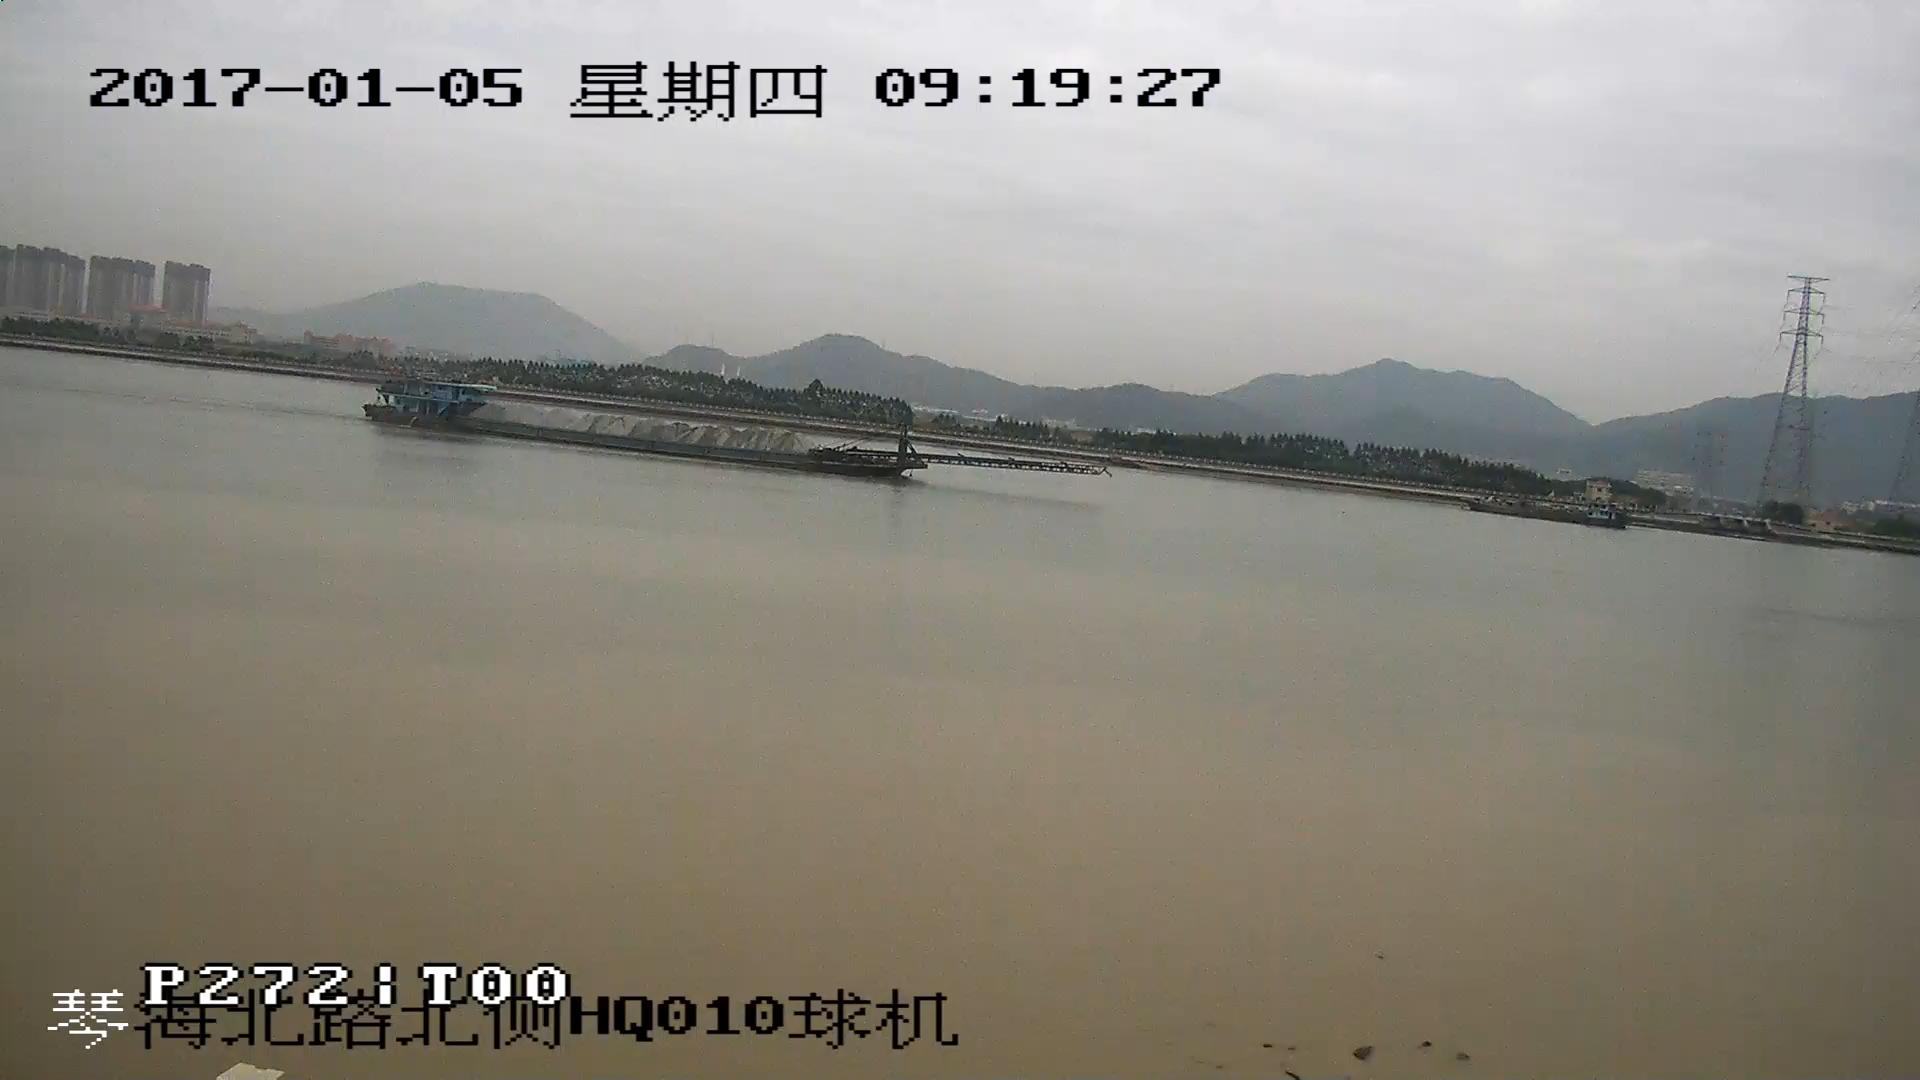ore carrier: (360, 377, 1099, 480)
